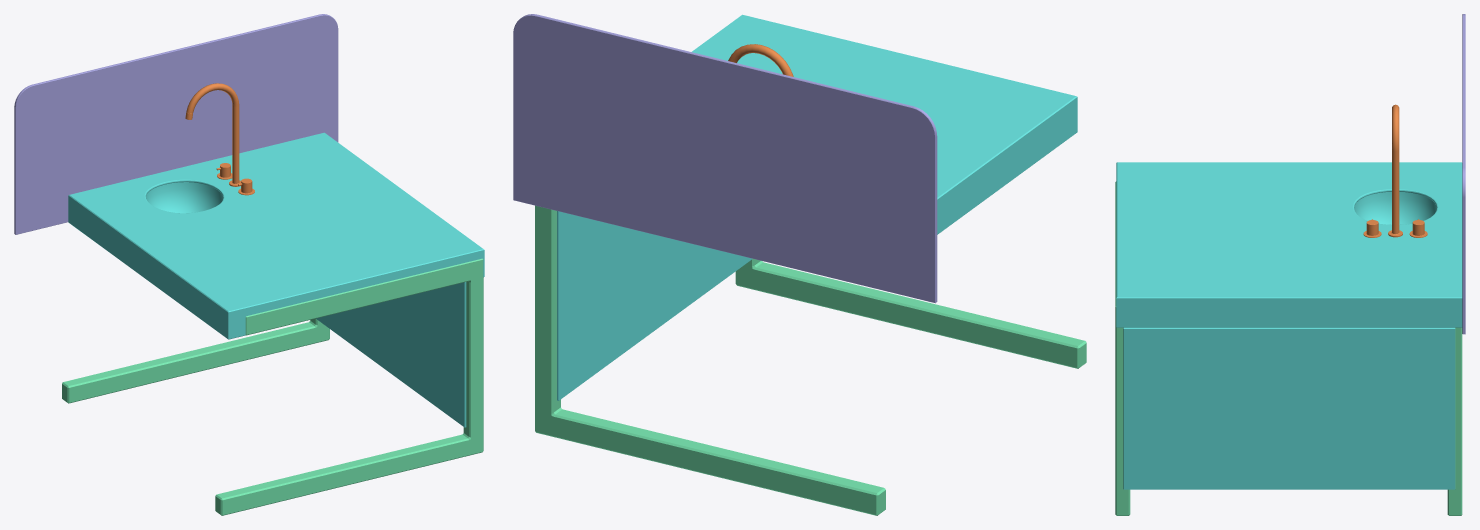
The model's file is tableA.fbx.
3 views of the same model, side by side, from view 1: azimuth 30°, elevation 25°; view 2: azimuth 150°, elevation 25°; view 3: azimuth 270°, elevation 25° (orthographic). The views are drawn at different scales.
Visible parts, largest first — view 1: tableA; view 2: tableA; view 3: tableA.
Part boxes in pixels (box(x1,y1,x2,y2)): tableA: box(14, 14, 484, 515); tableA: box(513, 14, 1086, 515); tableA: box(1115, 14, 1465, 515).
Bounding box in the file's own units: 120 × 113 × 104.
